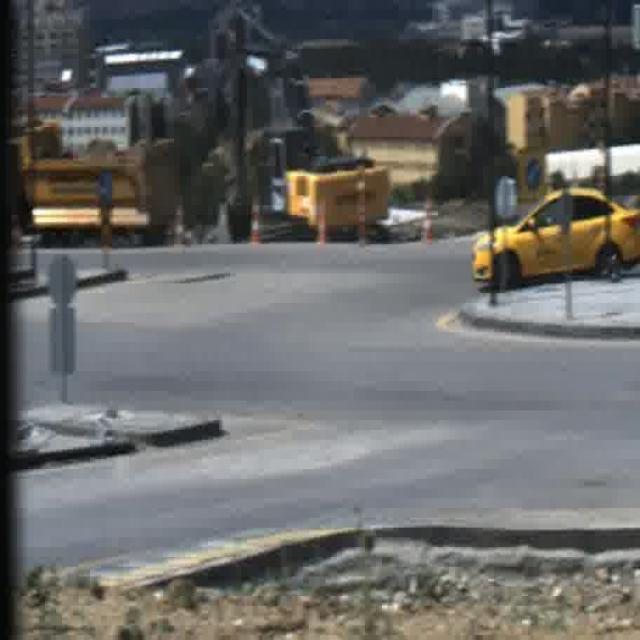Car: (469, 188, 640, 292)
